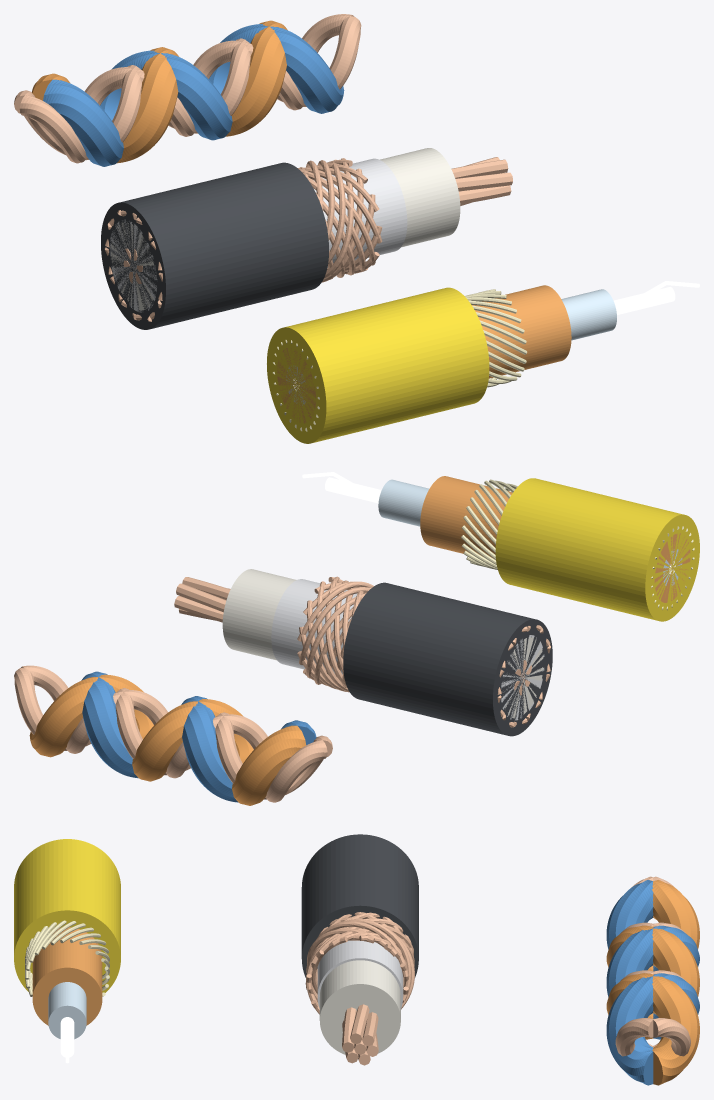
File: combined.glb
3 renders of one model, top to bottom at view 1: azimuth 30°, elevation 25°; view 2: azimuth 150°, elevation 25°; view 3: azimuth 270°, elevation 25°, orthographic. The views are drawn at different scales.
Visible parts, largest first — view 1: p4, p36, p2, p3, p63, p6, p0, p5, p1, p64, p65, p30 (+4 smaller); view 2: p4, p36, p3, p2, p63, p6, p1, p0, p5, p64, p65, p34 (+7 smaller); view 3: p36, p4, p3, p2, p6, p63, p5, p64, p1, p0, p26, p25 (+6 smaller).
Part boxes in pixels (x1=…): p4: x1=101, y1=162, x2=328, y2=329; p36: x1=267, y1=287, x2=489, y2=443; p2: x1=43, y1=24, x2=344, y2=166; p3: x1=32, y1=20, x2=287, y2=163; p63: x1=277, y1=285, x2=571, y2=423; p6: x1=111, y1=148, x2=460, y2=310; p0: x1=19, y1=14, x2=354, y2=163; p5: x1=109, y1=158, x2=407, y2=312; p1: x1=14, y1=16, x2=361, y2=160; p64: x1=286, y1=289, x2=616, y2=405; p65: x1=293, y1=287, x2=675, y2=390; p30: x1=123, y1=172, x2=512, y2=266; p4: x1=343, y1=582, x2=552, y2=736; p36: x1=495, y1=478, x2=699, y2=621; p3: x1=29, y1=674, x2=305, y2=805; p2: x1=81, y1=671, x2=316, y2=802; p63: x1=420, y1=476, x2=690, y2=602; p6: x1=222, y1=569, x2=543, y2=718; p1: x1=20, y1=665, x2=327, y2=802; p0: x1=14, y1=667, x2=332, y2=799; p5: x1=271, y1=579, x2=544, y2=720; p64: x1=378, y1=479, x2=682, y2=585; p65: x1=325, y1=477, x2=675, y2=573; p34: x1=176, y1=583, x2=530, y2=686; p36: x1=14, y1=839, x2=120, y2=992; p4: x1=301, y1=834, x2=418, y2=977; p3: x1=606, y1=880, x2=699, y2=1085; p2: x1=606, y1=880, x2=699, y2=1085; p6: x1=319, y1=960, x2=400, y2=1054; p63: x1=32, y1=927, x2=102, y2=1025; p5: x1=317, y1=940, x2=403, y2=1008; p64: x1=48, y1=982, x2=86, y2=1039; p1: x1=615, y1=876, x2=674, y2=1056; p0: x1=631, y1=876, x2=690, y2=1056; p26: x1=316, y1=921, x2=408, y2=977; p25: x1=335, y1=919, x2=411, y2=1000.
Size of the model in its own units: 0.3729 by 0.104 by 0.609.
